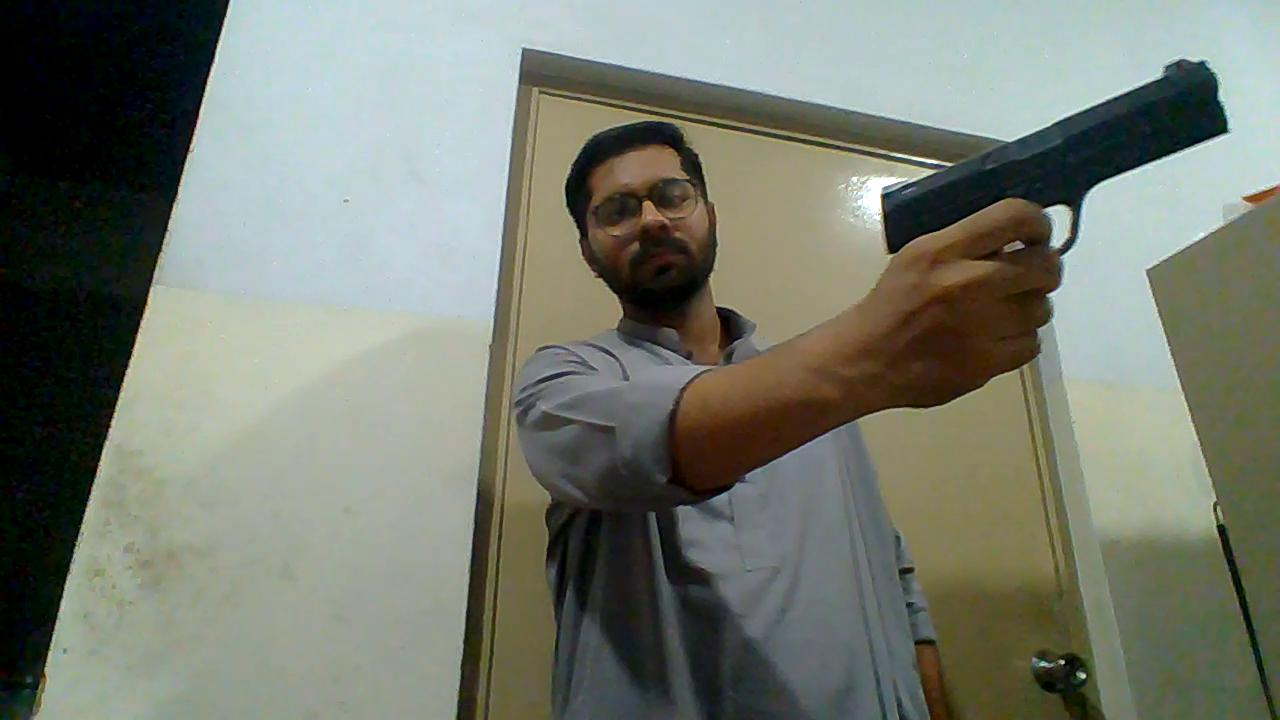criminal: (512, 53, 1230, 720)
weapon: (877, 54, 1230, 271)
